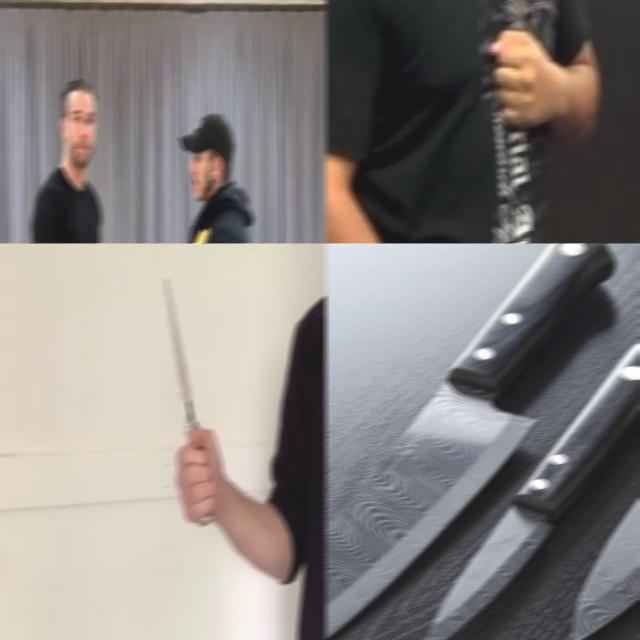Knife_Handle: (163, 276, 224, 527)
